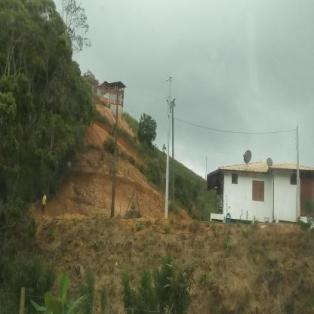Poste: (164, 74, 173, 220)
